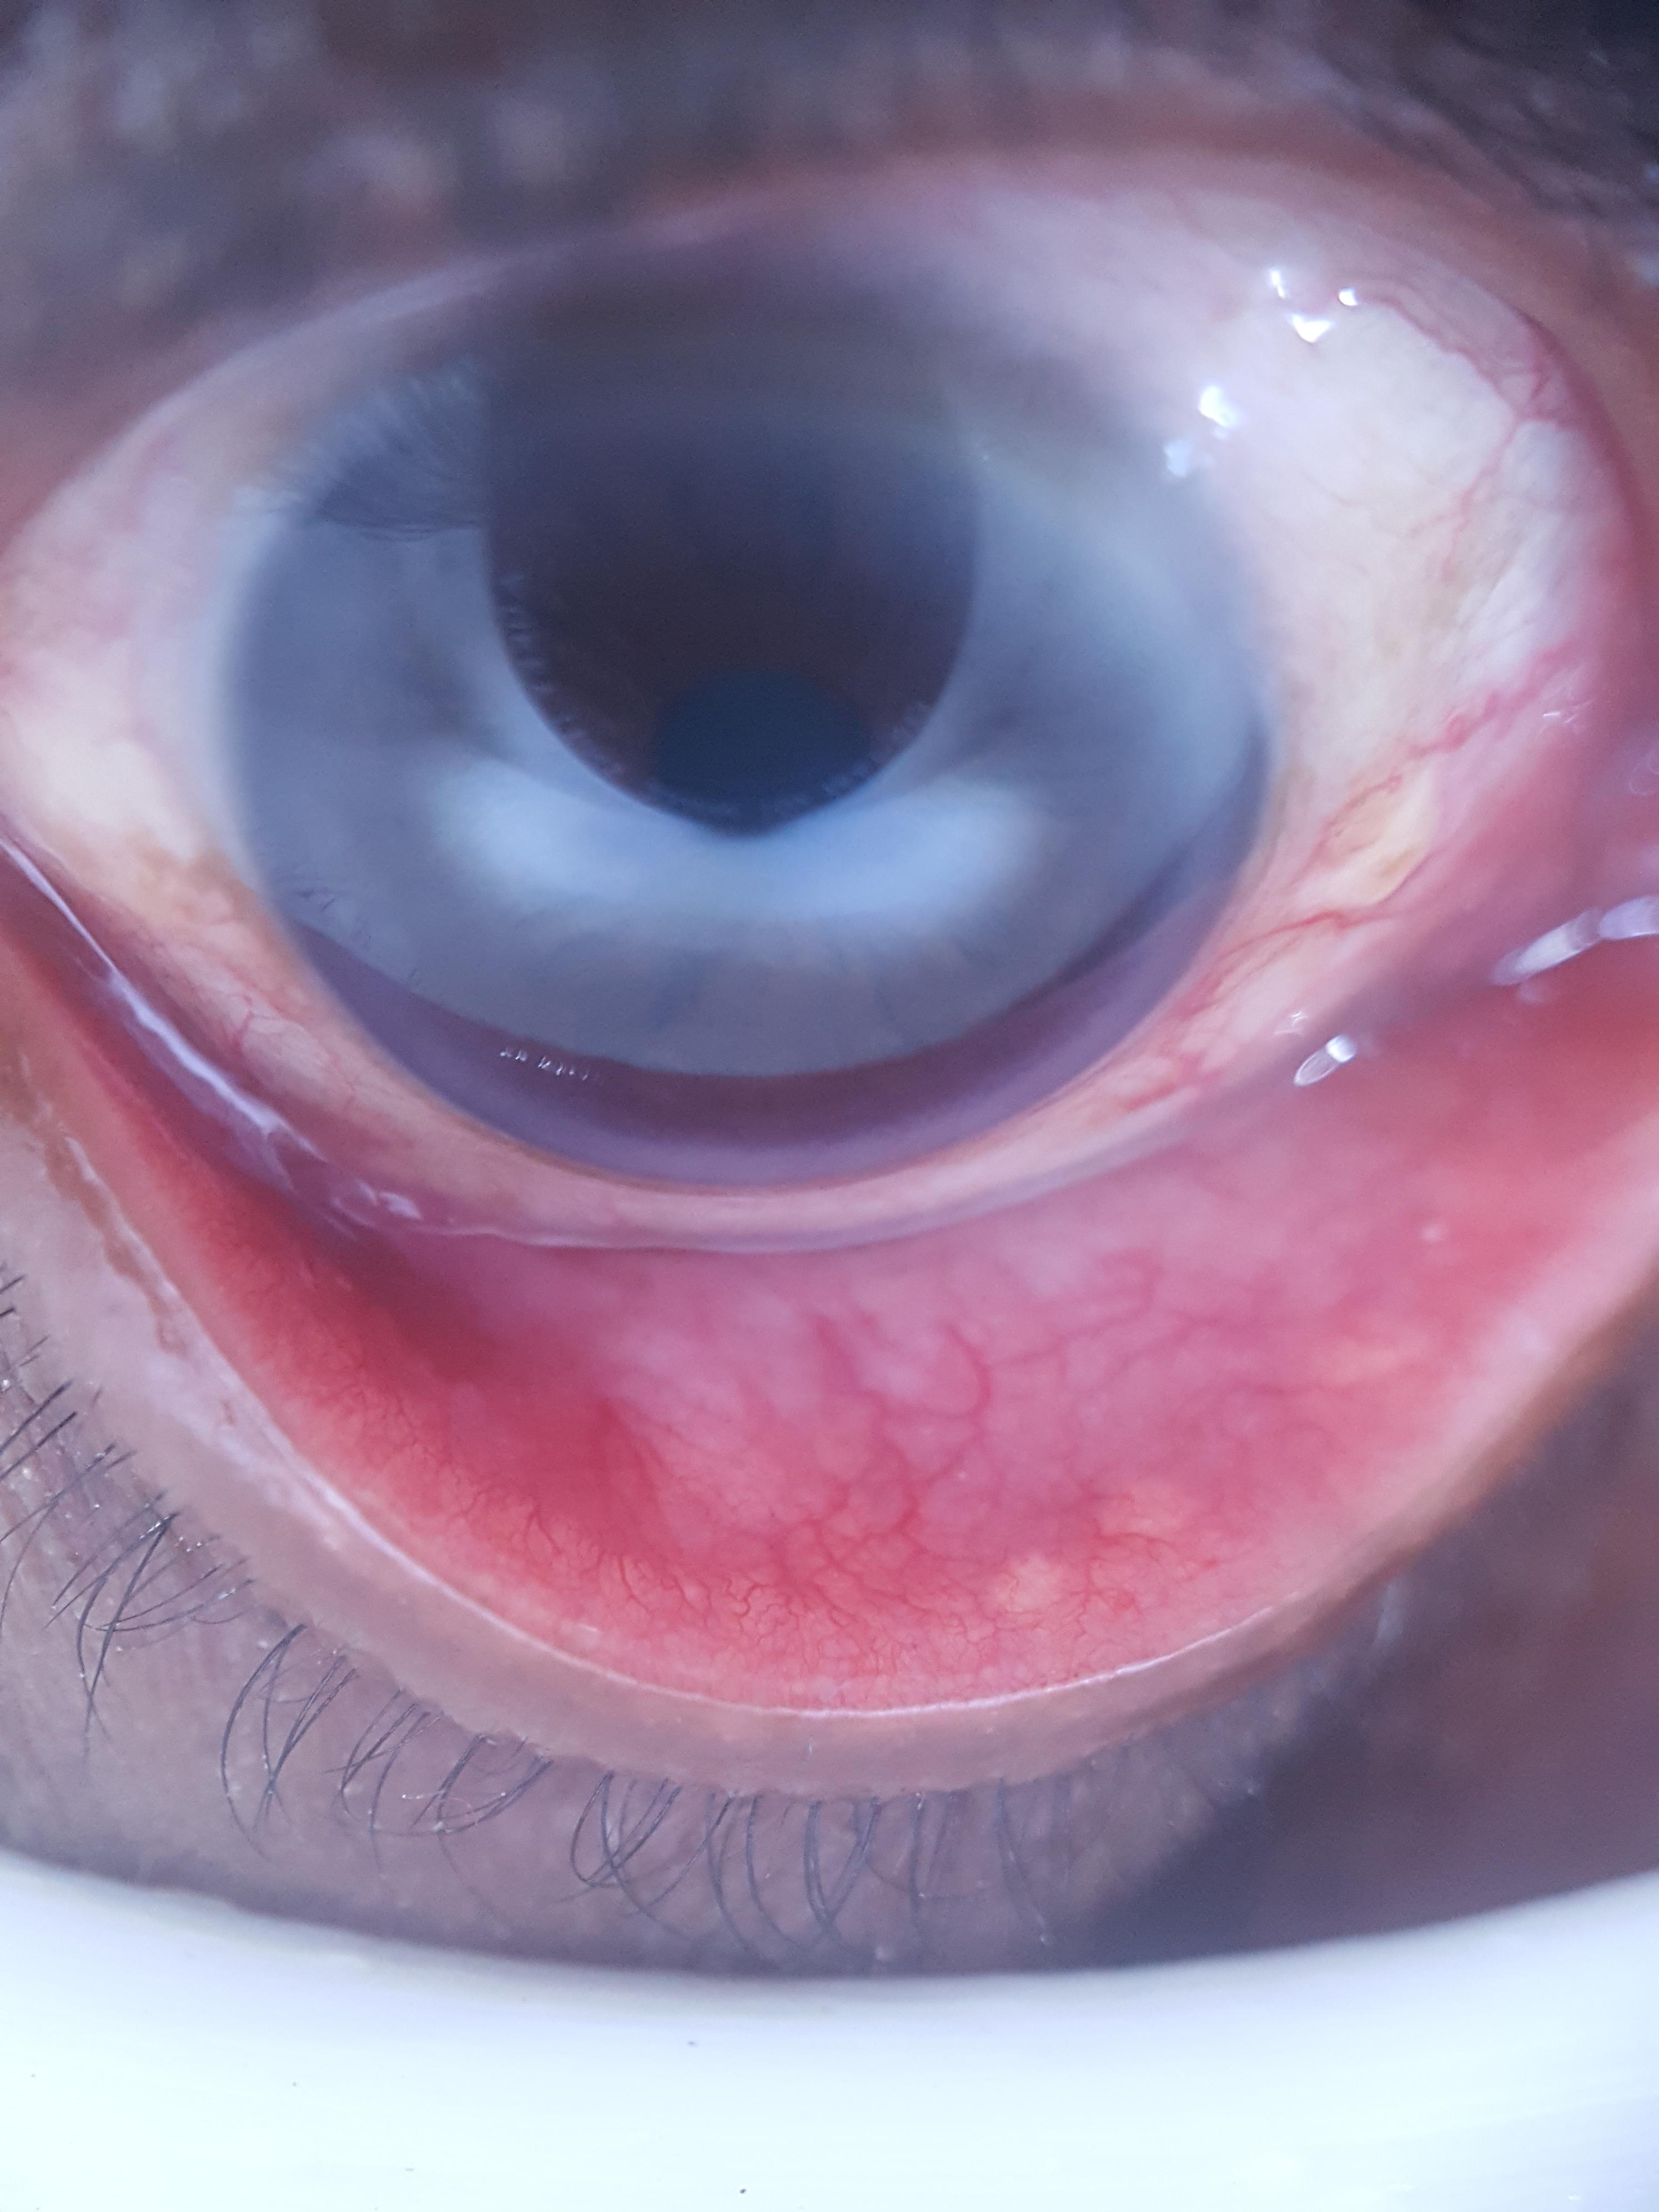forniceal: (0, 705, 1659, 1494)
forniceal_palpebral: (0, 688, 1659, 1707)
palpebral: (0, 904, 1659, 1693)
